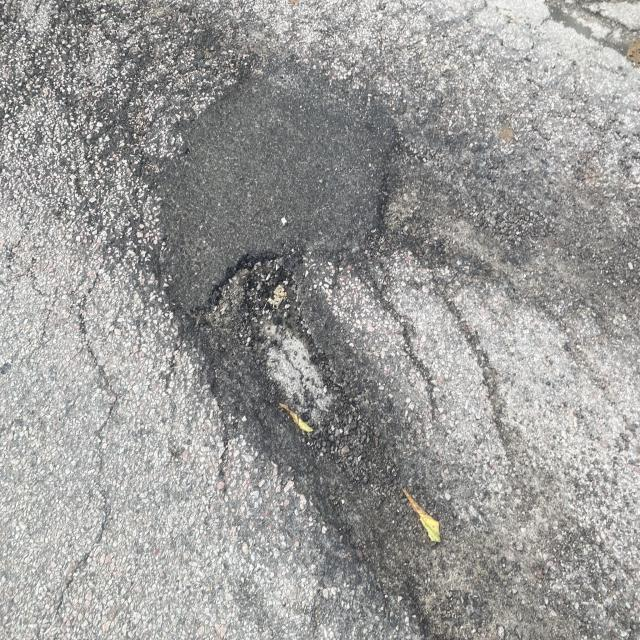Pothole: (173, 212, 320, 456)
